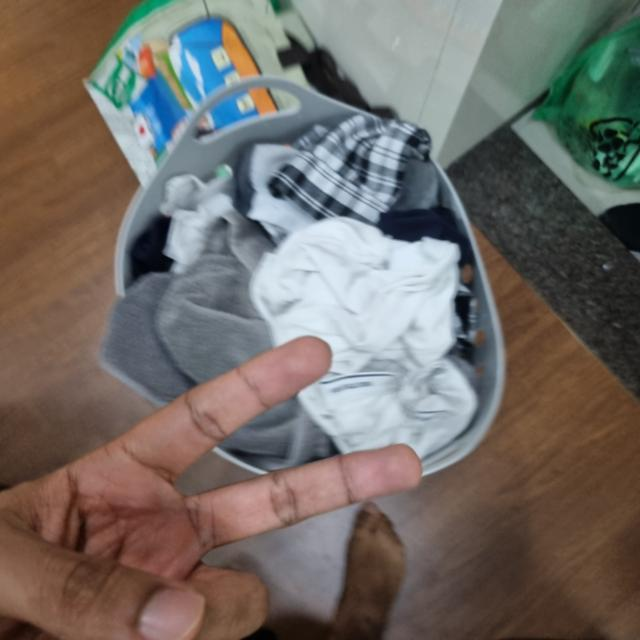Scissors: (0, 338, 424, 638)
